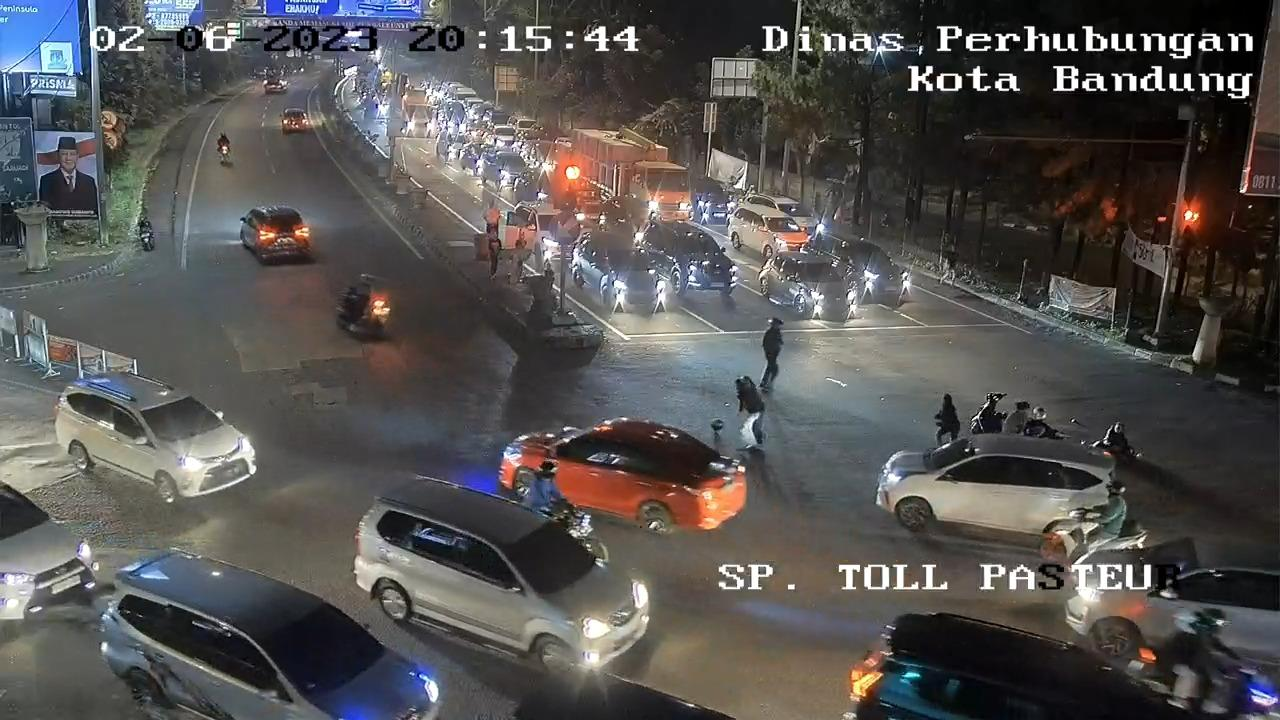accident: (1086, 420, 1143, 464)
